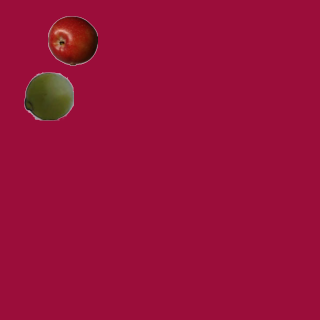Apple Braeburn: (47, 15, 97, 65)
Grape White 4: (23, 70, 73, 120)
